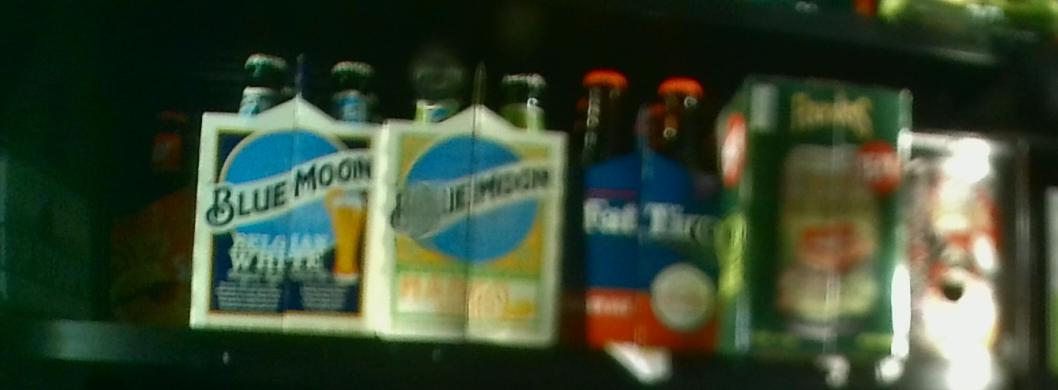bottle: (378, 58, 562, 344), (724, 79, 911, 357), (192, 53, 373, 333), (565, 70, 721, 350)
